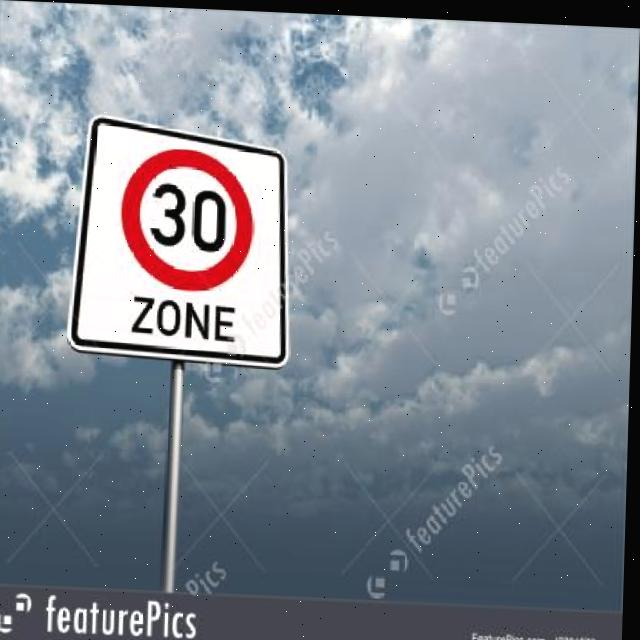Speed limit 30: (114, 142, 270, 296)
